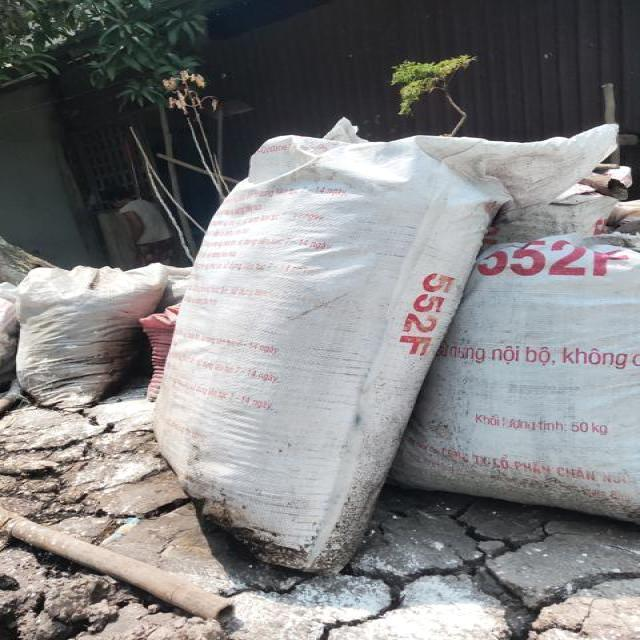gunny_bag: (155, 135, 509, 576), (392, 235, 640, 522)
